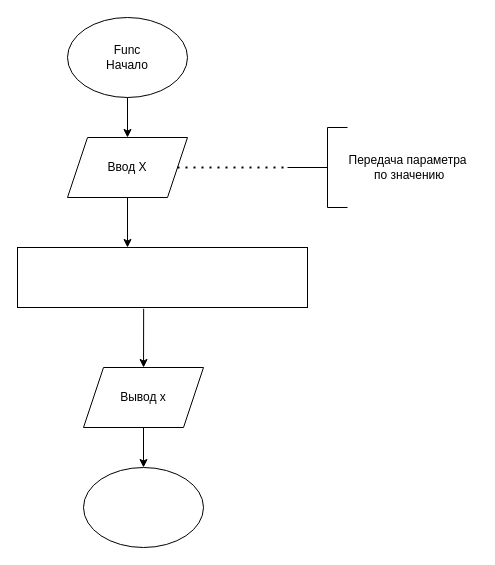
This 495x565 diagram has some shape labels left out. The box of each missing label's shape, as (x1, y1, x2, y2) in pixels:
func := 1 * x * x * x + (- 2) * x * x + (- 2) * x + (12): (16, 246, 308, 308)
Func Конец: (82, 466, 204, 548)
